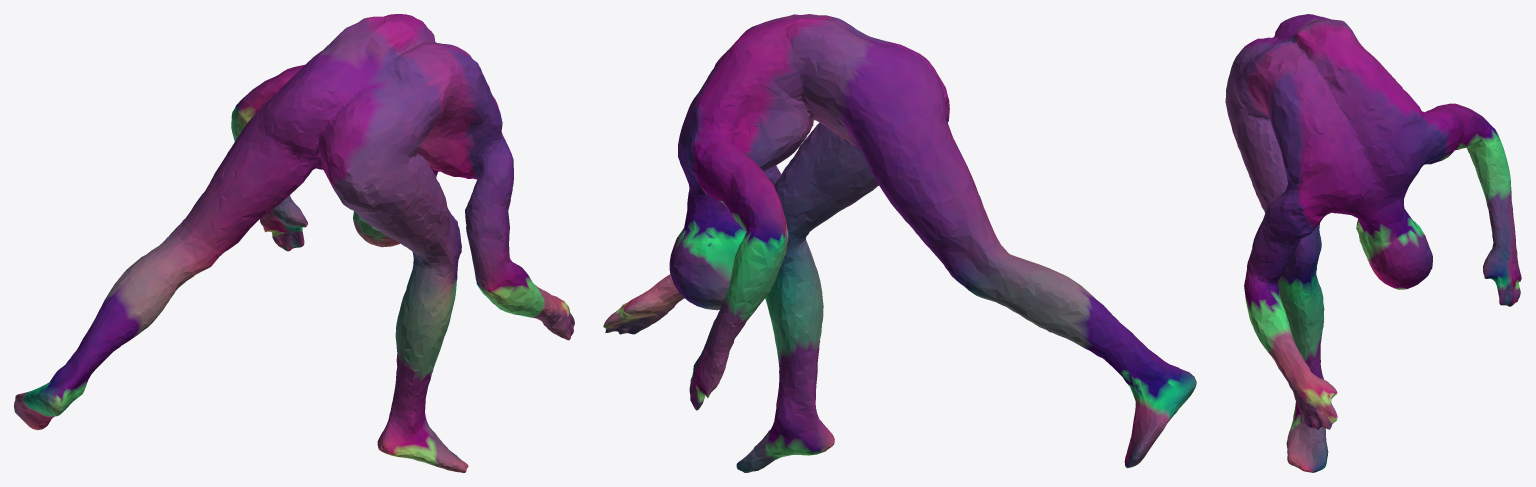
File: man-10.off.obj
3 views of the same model, side by side, from view 1: azimuth 30°, elevation 25°; view 2: azimuth 150°, elevation 25°; view 3: azimuth 270°, elevation 25° (orthographic). The views are drawn at different scales.
Bounding box in the file's own units: 1.41 × 1.11 × 0.7226.
